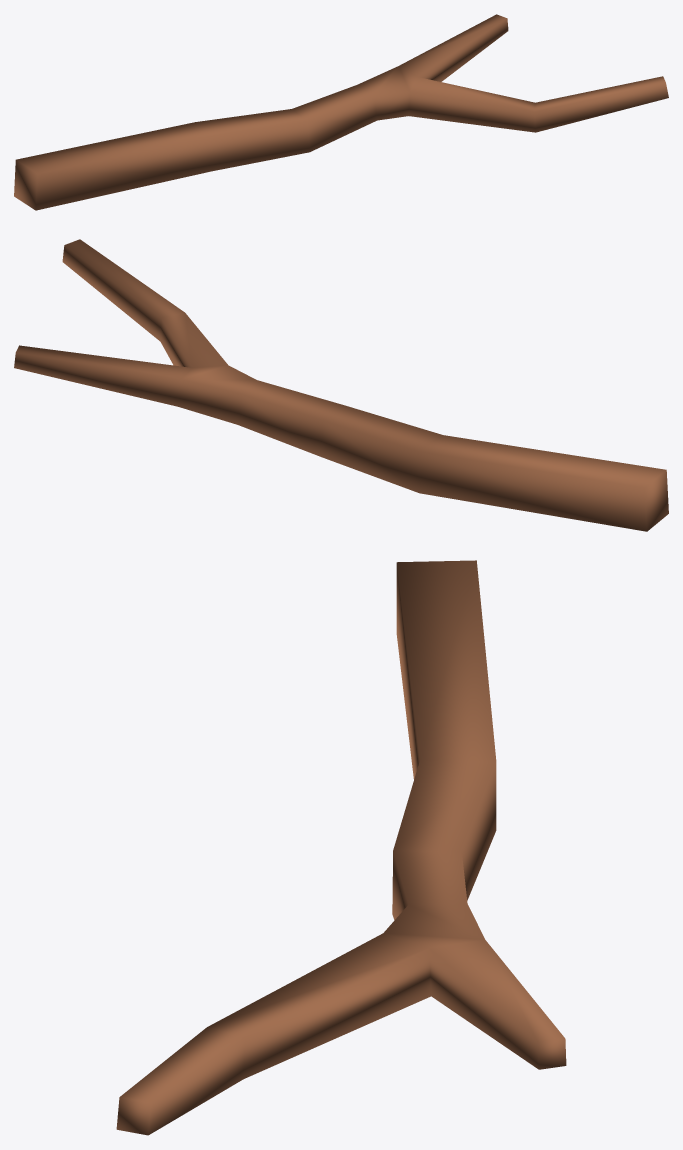
Rendered from Stick_Brown_5.fbx.
3 views of the same model, one above another, from view 1: azimuth 30°, elevation 25°; view 2: azimuth 150°, elevation 25°; view 3: azimuth 270°, elevation 25° (orthographic). The views are drawn at different scales.
Parts seen in each view (by area): view 1: Stick_Brown_5; view 2: Stick_Brown_5; view 3: Stick_Brown_5.
Boxes of the visible parts, left/top/right/bottom form: Stick_Brown_5: left=14, top=14, right=668, bottom=210; Stick_Brown_5: left=14, top=239, right=668, bottom=531; Stick_Brown_5: left=116, top=560, right=566, bottom=1135.
Size of the model in its own units: 213 by 18.62 by 72.8.
